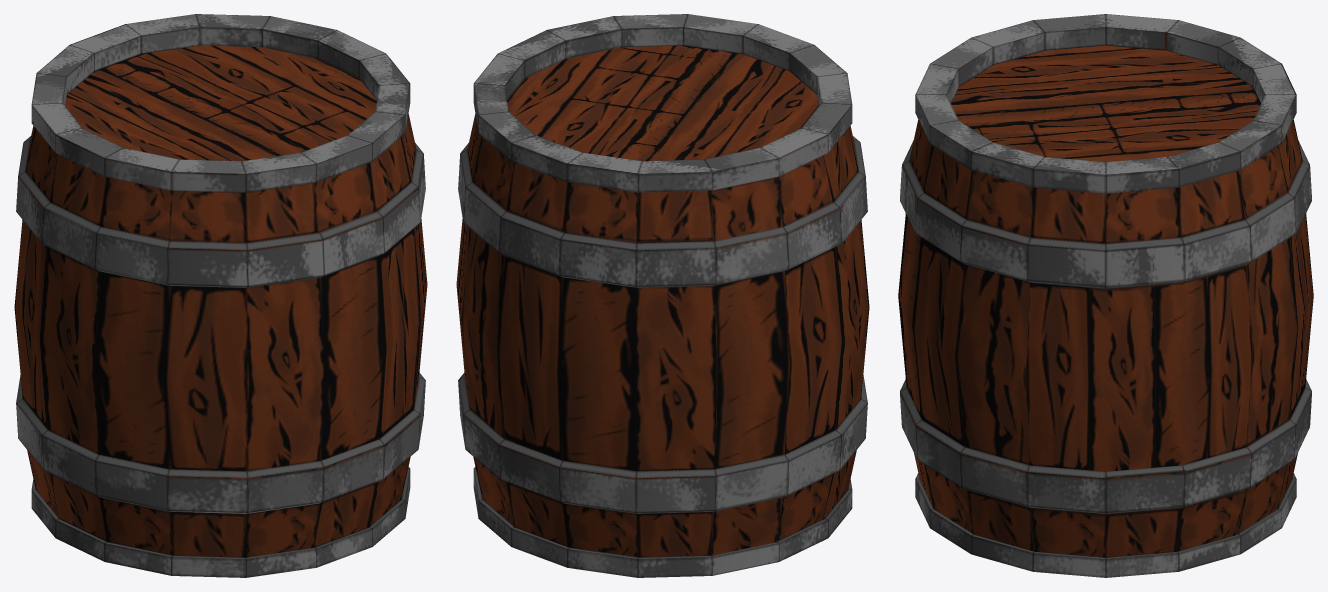
Rendered from beczka.fbx.
3 views of the same model, side by side, from view 1: azimuth 30°, elevation 25°; view 2: azimuth 150°, elevation 25°; view 3: azimuth 270°, elevation 25° (orthographic).
Parts seen in each view (by area): view 1: Beczka; view 2: Beczka; view 3: Beczka.
Boxes of the visible parts, x1=… form: Beczka: x1=14, y1=14, x2=427, y2=577; Beczka: x1=456, y1=14, x2=869, y2=577; Beczka: x1=898, y1=14, x2=1313, y2=577.
Size of the model in its own units: 303 by 324 by 303.
Materials: 1 (1 with a texture image).
